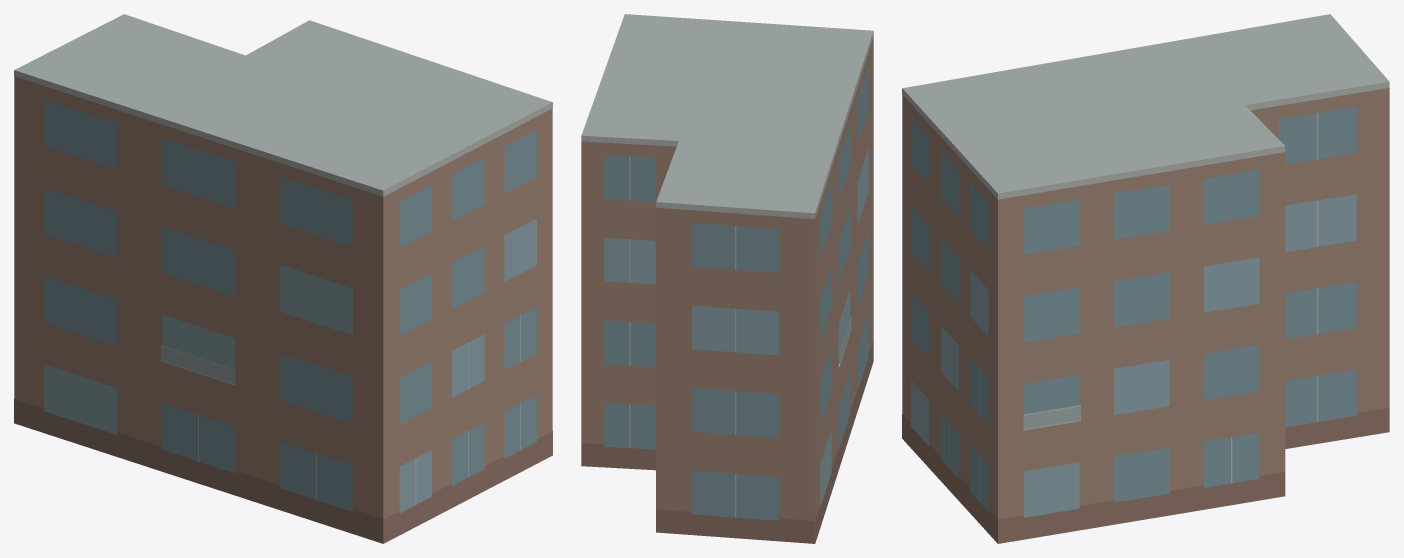
Rendered from survey-upis-33004882.glb.
3 views of the same model, side by side, from view 1: azimuth 30°, elevation 25°; view 2: azimuth 150°, elevation 25°; view 3: azimuth 270°, elevation 25° (orthographic). The views are drawn at different scales.
Parts seen in each view (by area): view 1: survey-upis-33004882.tmp; view 2: survey-upis-33004882.tmp; view 3: survey-upis-33004882.tmp.
Boxes of the visible parts, box(x1,y1,x2,y2) form: survey-upis-33004882.tmp: box(14, 14, 552, 543); survey-upis-33004882.tmp: box(581, 14, 873, 543); survey-upis-33004882.tmp: box(902, 14, 1389, 543).
Size of the model in its own units: 15.51 by 14.1 by 17.8.
